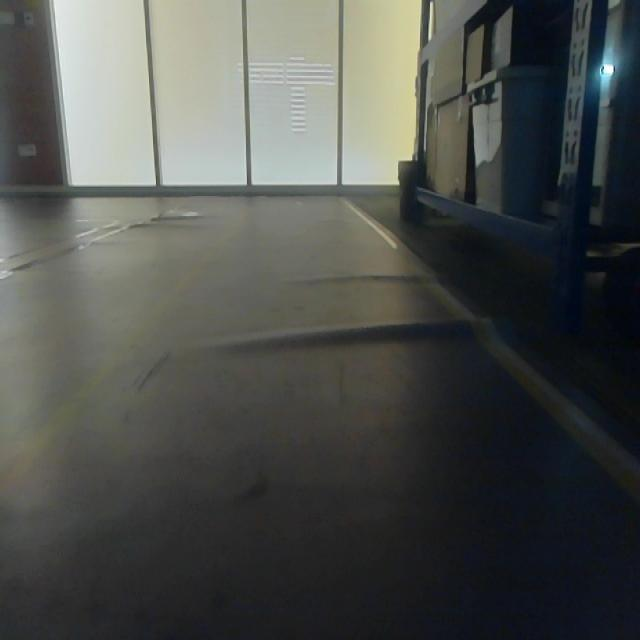left_lane: (3, 205, 253, 500)
right_lane: (345, 200, 638, 509)
